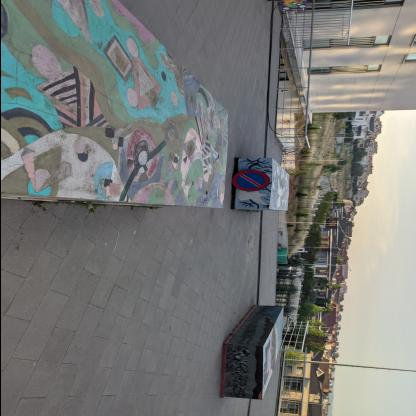No Waiting: (233, 171, 269, 193)
